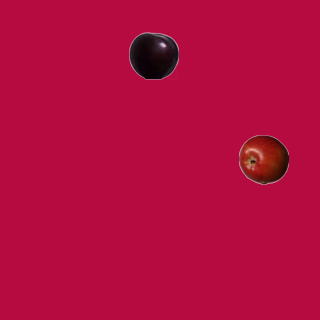Apple Braeburn: (238, 134, 288, 184)
Cherry Wax Black: (128, 30, 178, 80)
